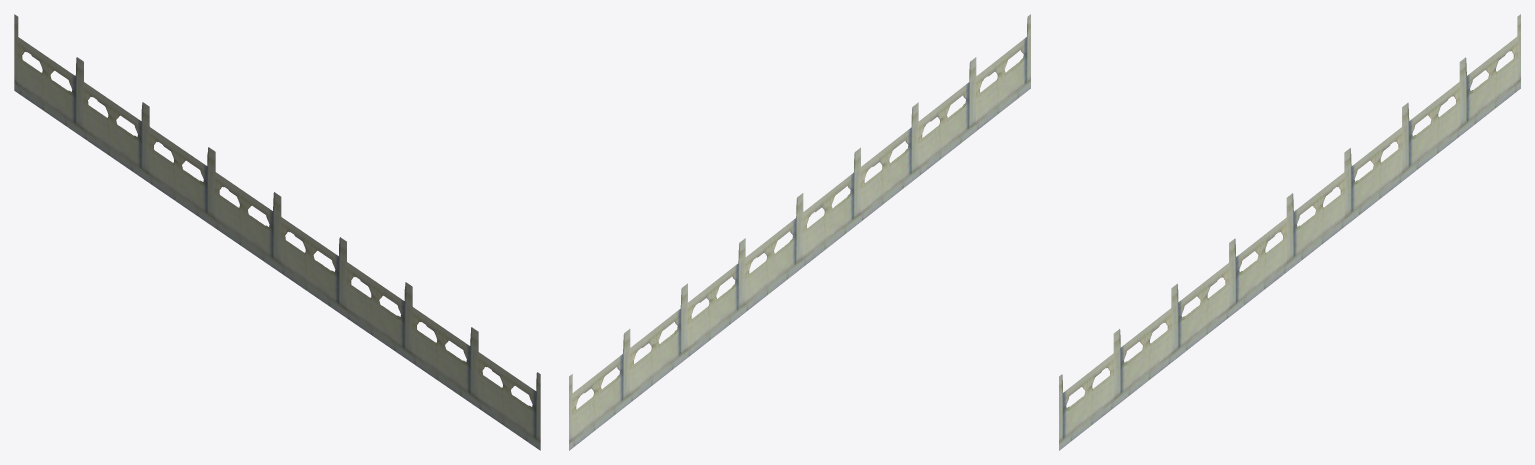
Rendered from 人民英雄纪念碑39.dae.
3 renders of one model, left to right at view 1: azimuth 30°, elevation 25°; view 2: azimuth 150°, elevation 25°; view 3: azimuth 330°, elevation 25°, orthographic. The views are drawn at different scales.
Parts seen in each view (by area): view 1: SketchUp; view 2: SketchUp; view 3: SketchUp.
Part boxes in pixels (x1,y1,x2,y2): SketchUp: (14,14,540,450); SketchUp: (569,14,1030,450); SketchUp: (1059,14,1520,450).
Bounding box in the file's own units: 19.36 × 652 × 55.12.
